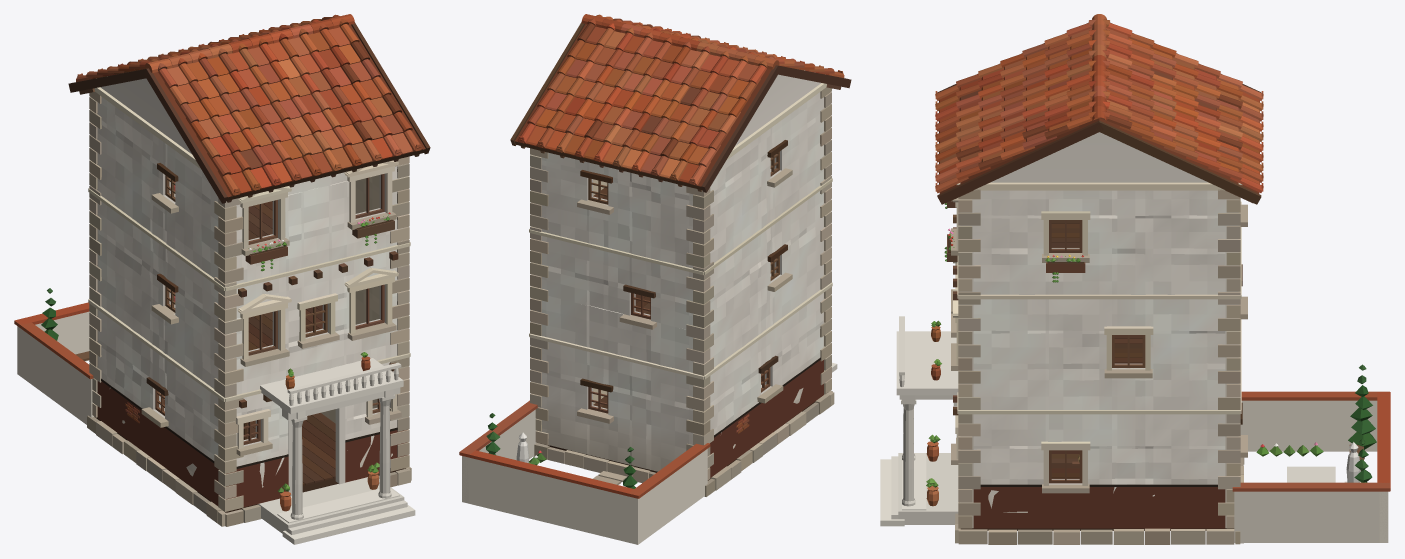
Rendered from patrician_5_3.glb.
3 renders of one model, left to right at view 1: azimuth 30°, elevation 25°; view 2: azimuth 150°, elevation 25°; view 3: azimuth 270°, elevation 25°, orthographic. The views are drawn at different scales.
Parts seen in each view (by area): view 1: House, Walls, Rooms; view 2: House, Walls, Rooms; view 3: House, Walls, Rooms.
Boxes of the visible parts, x1,y1,x2,y2 form: House: [14, 14, 430, 544]; Walls: [97, 78, 402, 492]; Rooms: [164, 175, 379, 485]; House: [459, 14, 851, 544]; Walls: [532, 74, 824, 471]; Rooms: [593, 161, 771, 408]; House: [880, 14, 1390, 544]; Walls: [960, 132, 1238, 528]; Rooms: [1051, 220, 1142, 478].
Bounding box in the file's own units: 4.11 × 7.86 × 8.43.
Materials: 3 (3 with a texture image).
